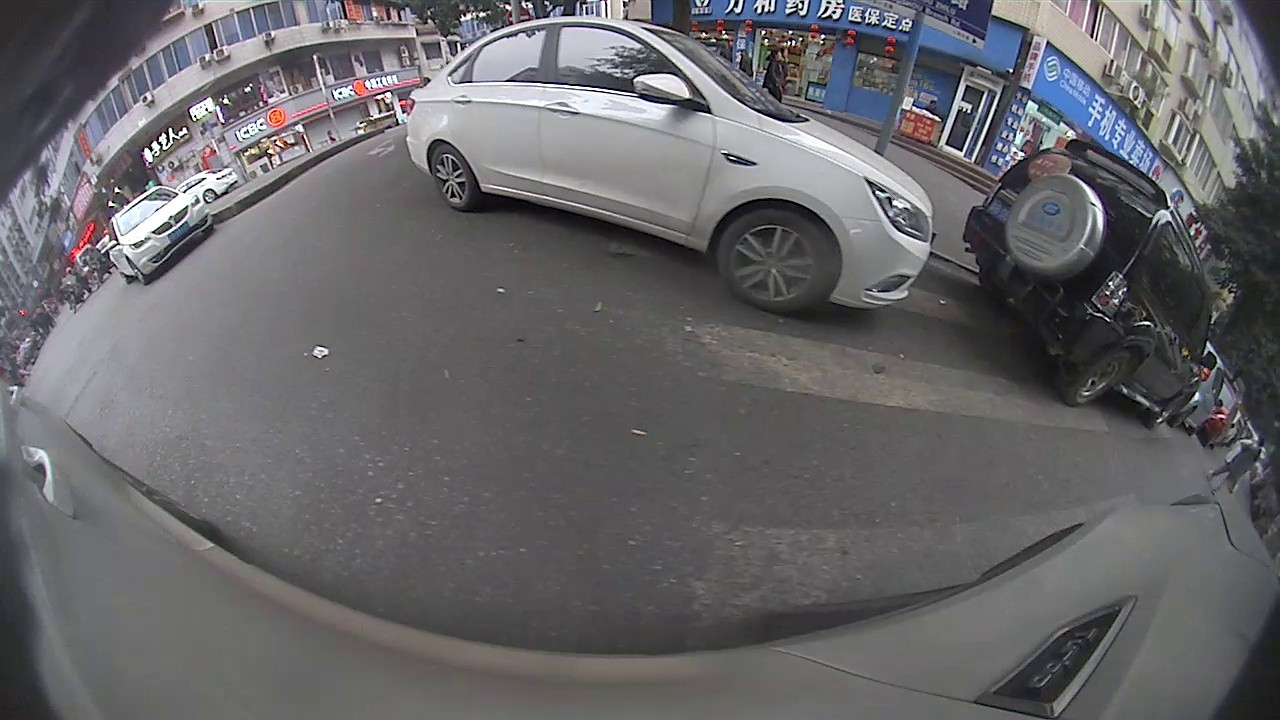car: (402, 15, 939, 319), (960, 135, 1214, 433), (105, 183, 214, 285), (165, 166, 238, 203)
front: (715, 206, 837, 317), (1147, 393, 1193, 432), (127, 258, 148, 286)
person: (1208, 433, 1265, 495)
rear: (1064, 349, 1139, 407), (424, 142, 475, 211), (201, 190, 217, 205)
